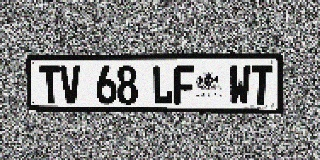6: (96, 66, 117, 104)
8: (117, 65, 138, 104)
F: (174, 65, 195, 105)
L: (152, 65, 173, 104)
T: (250, 65, 273, 105), (39, 66, 61, 104)
V: (60, 66, 81, 104)
W: (229, 65, 251, 105)
